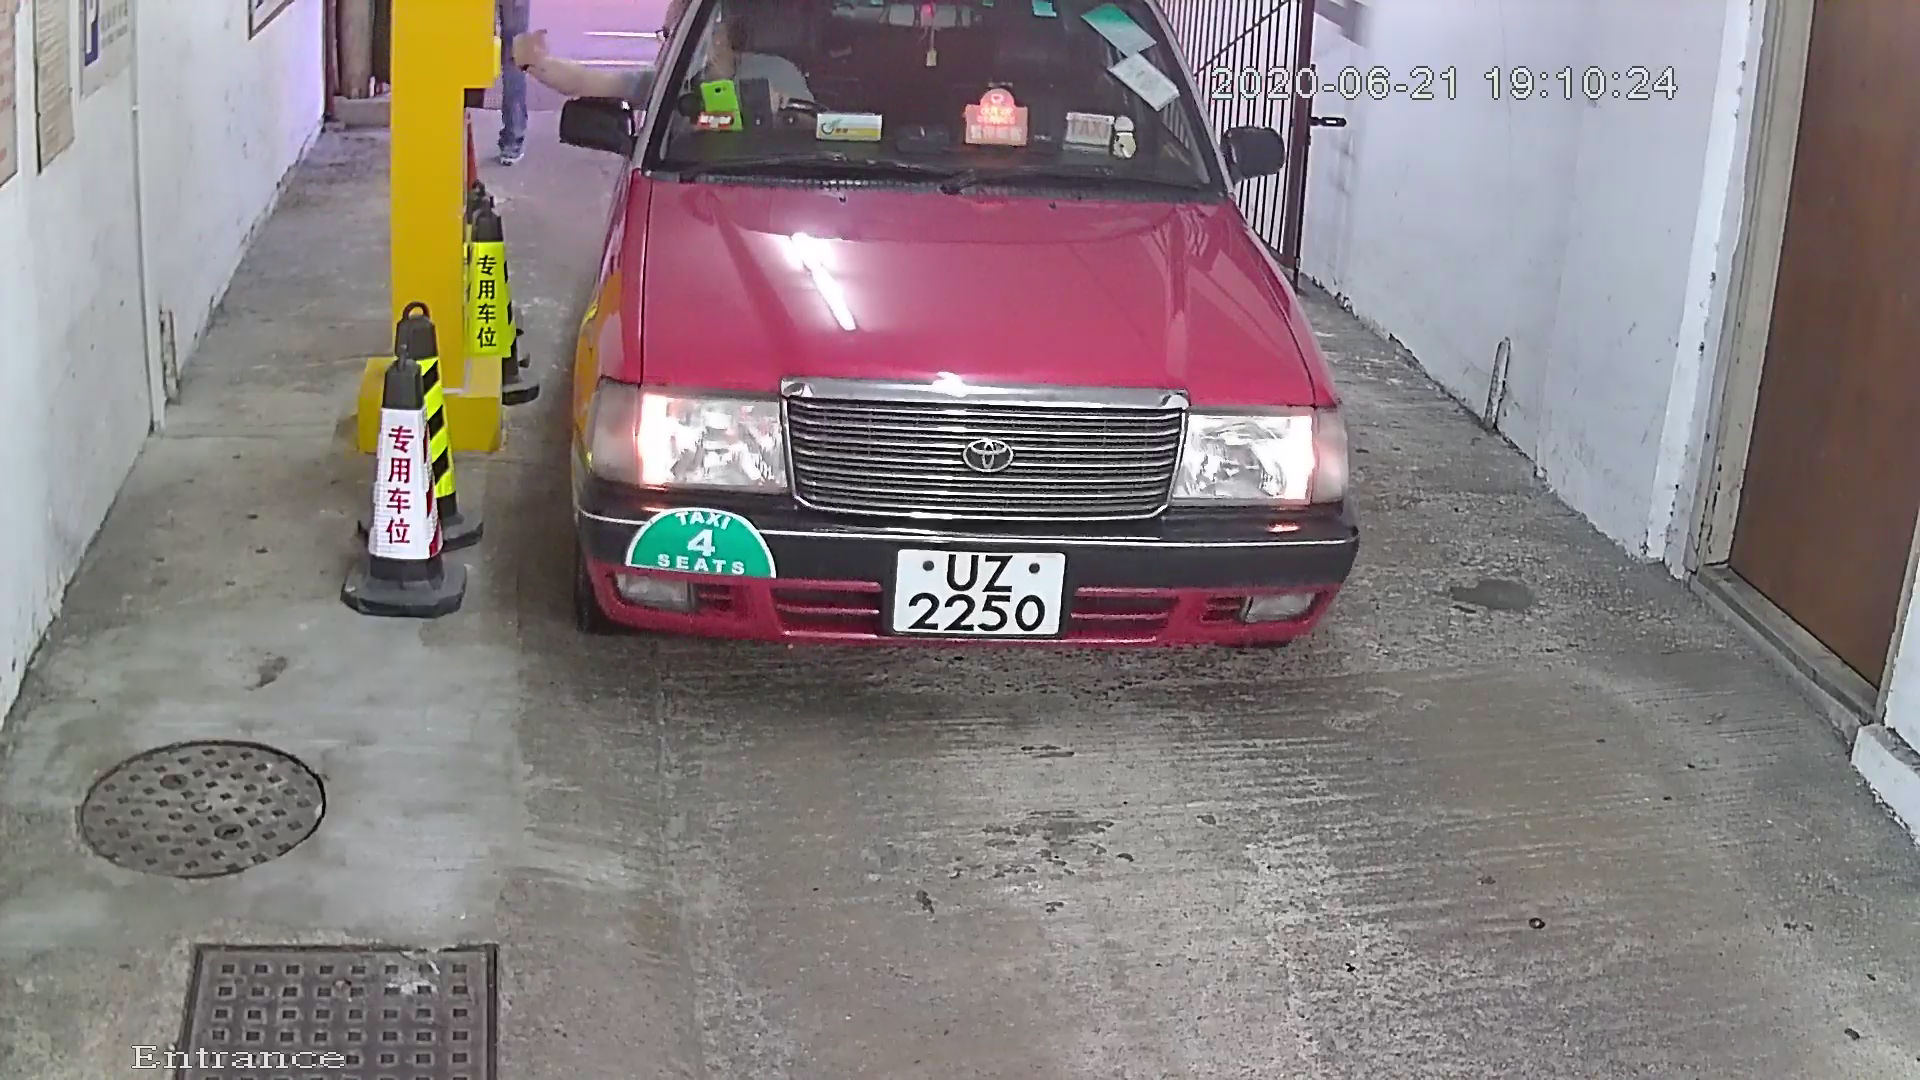taxi: (497, 3, 1429, 760)
taxi_mark: (608, 465, 785, 608)
